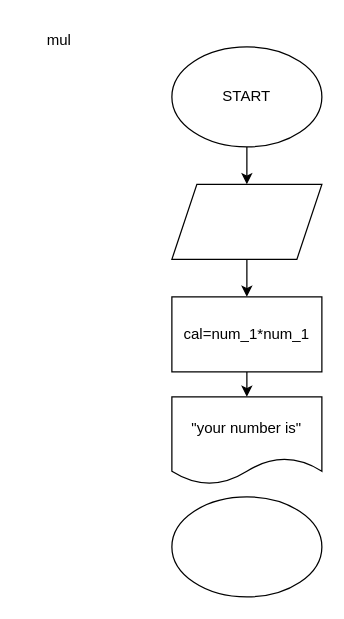
Some shapes in this 344 by 619 pixel diagram are drawn without their labels. Each missing label, with the centre of its shape:
num_1: (246,221)
STOP: (246,546)
